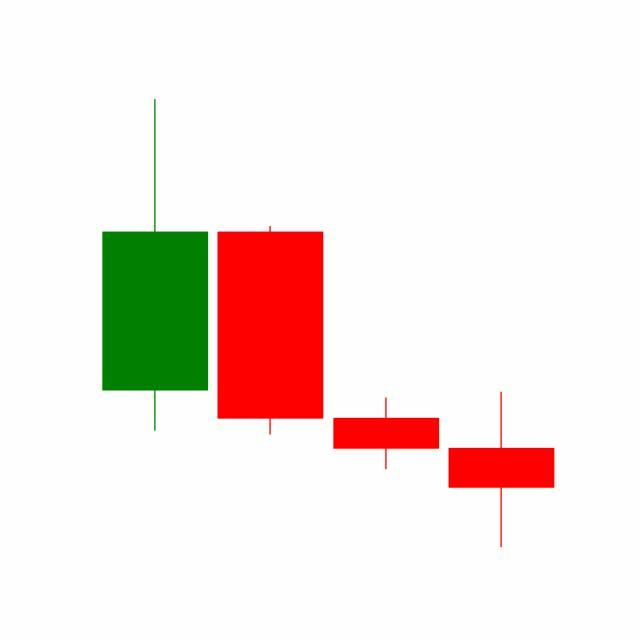Spinning Top: (444, 390, 560, 550)
